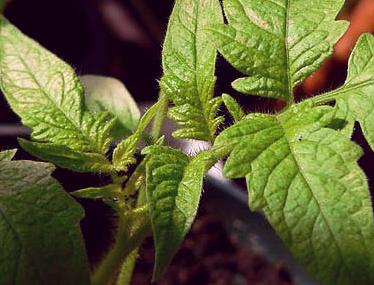Tomato leaf: (229, 88, 374, 285), (0, 16, 124, 182), (202, 0, 354, 110), (157, 0, 232, 147), (143, 142, 213, 283)
